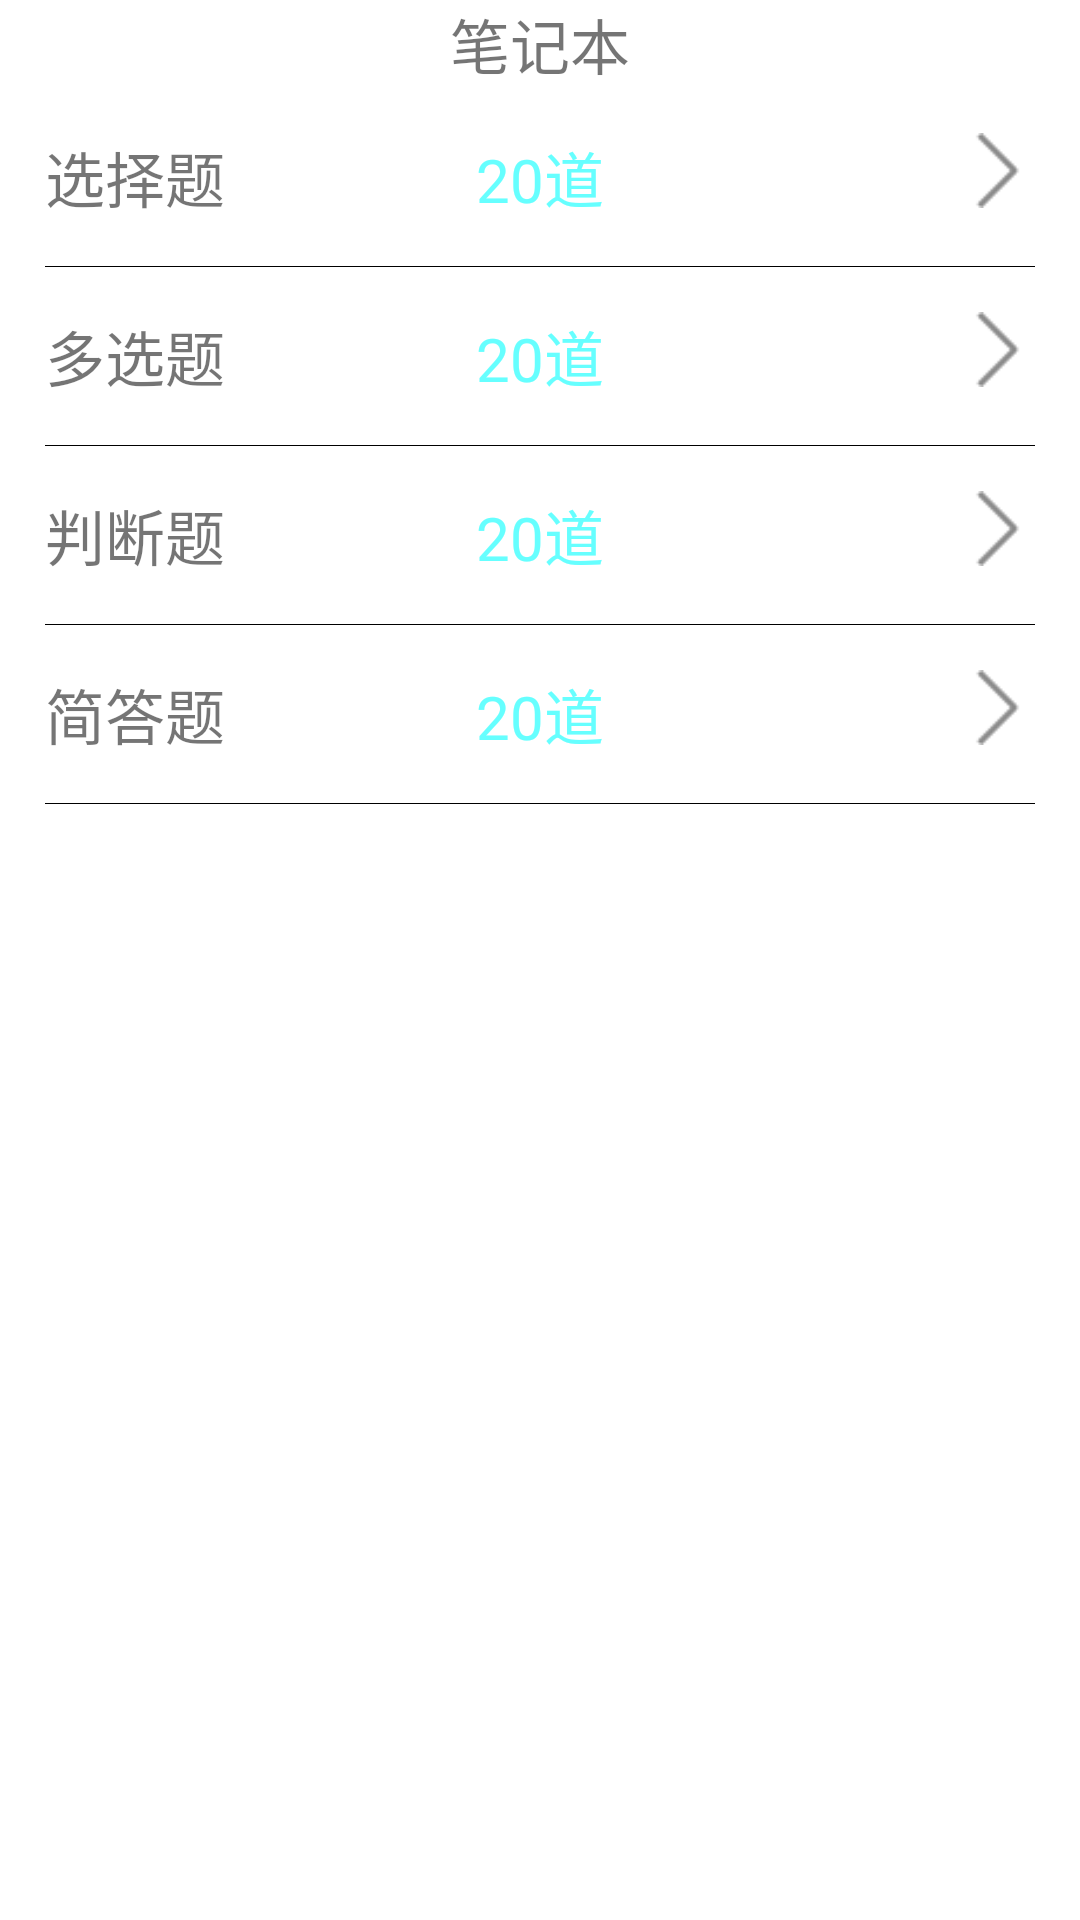

Named icons in this screenshot (1080px×1920px) and their centers, [x,y]:
jump: [997,170], [997,349], [997,528], [997,707]
